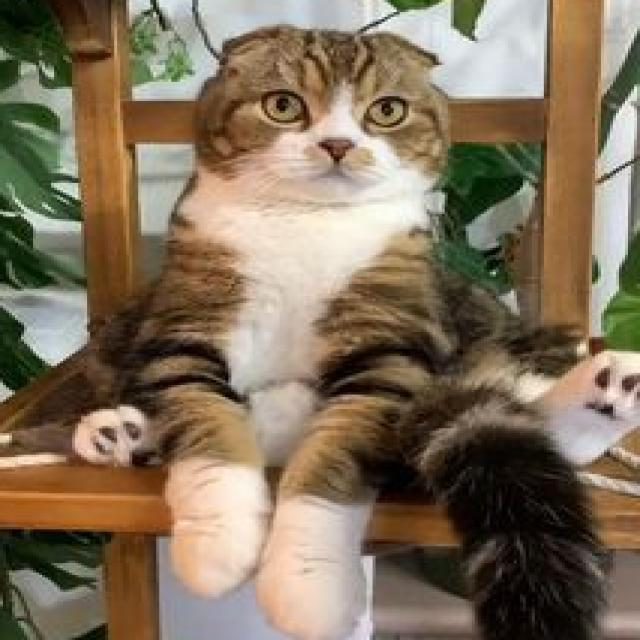Scottish Fold: (60, 17, 640, 640)
